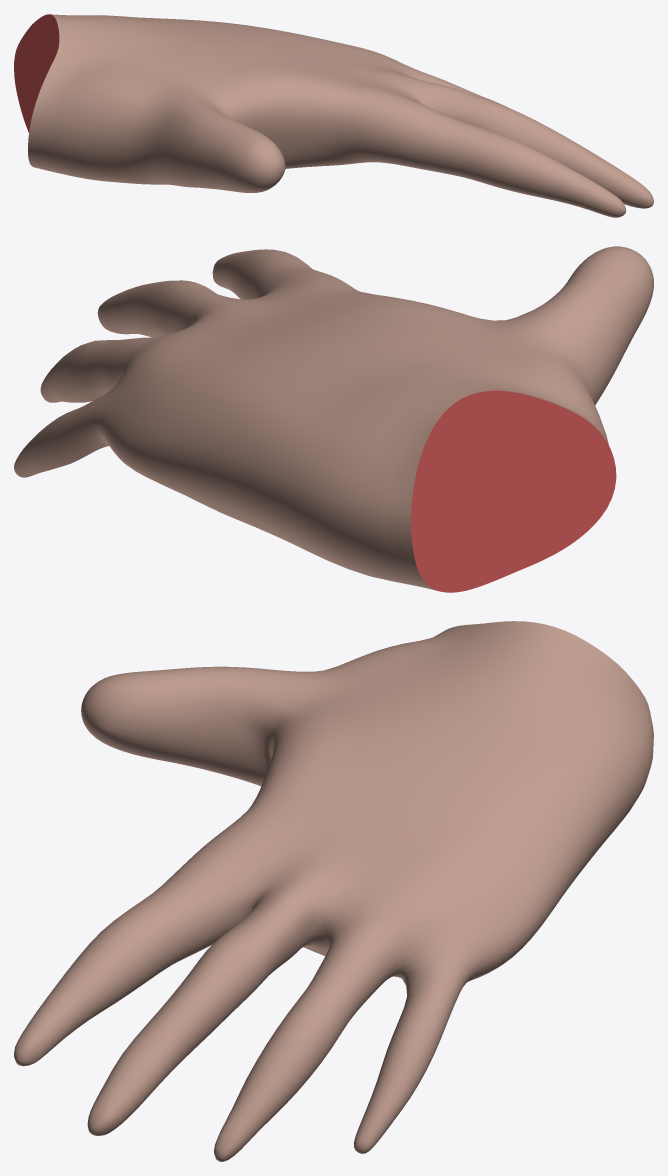
3 renders of one model, top to bottom at view 1: azimuth 30°, elevation 25°; view 2: azimuth 150°, elevation 25°; view 3: azimuth 270°, elevation 25°, orthographic. The views are drawn at different scales.
Visible parts, largest first — view 1: polySurface30; view 2: polySurface30; view 3: polySurface30.
Part boxes in pixels (bbox=[...]): polySurface30: bbox=[14, 14, 653, 217]; polySurface30: bbox=[14, 246, 653, 592]; polySurface30: bbox=[14, 621, 653, 1161].
Bounding box in the file's own units: 7 × 2.7 × 5.75.
